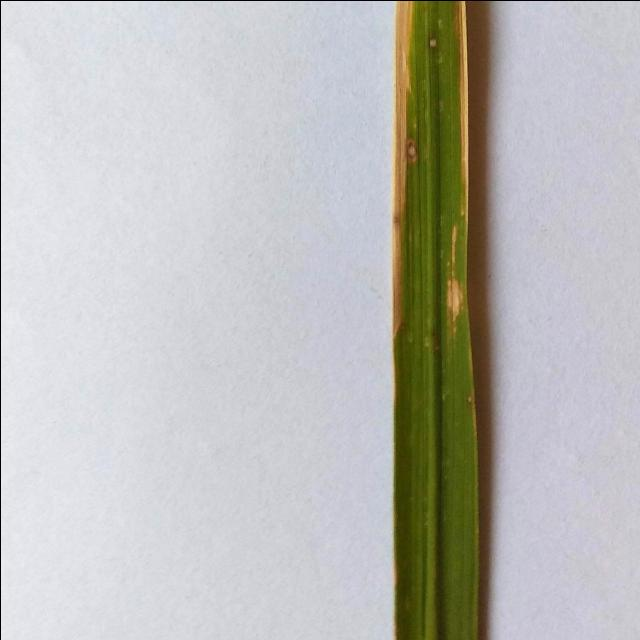Leaf blast: (271, 0, 526, 640)
